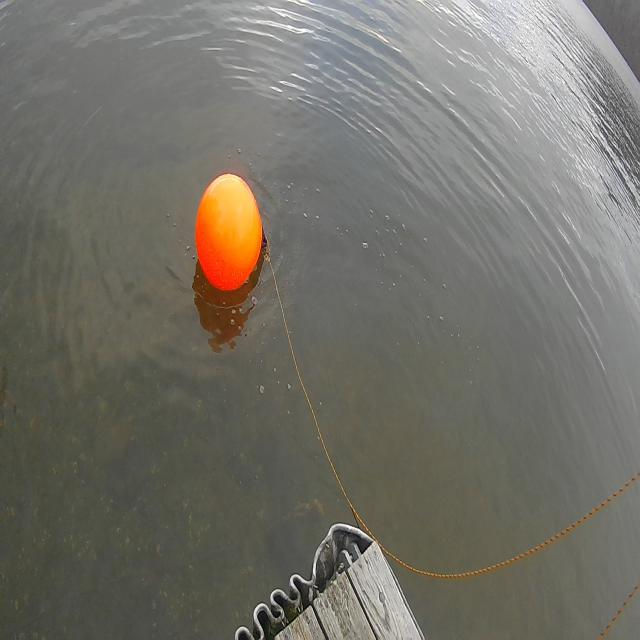Buoy: (192, 166, 268, 295)
